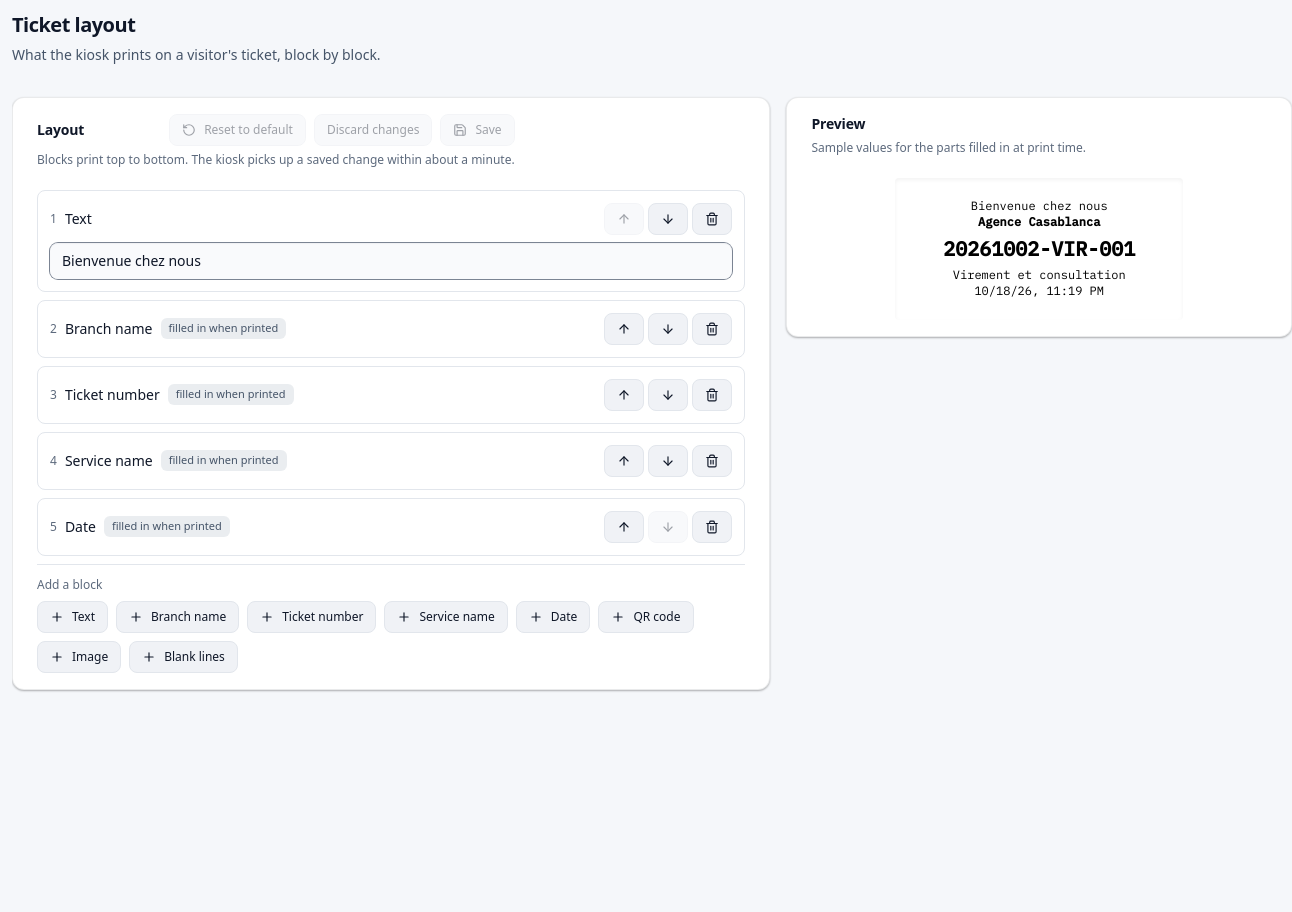
Test: TicketTemplate › refuses to save an empty ticket
Expected: the button named "move block 1, text down" is shown, x1=648 y1=202 x2=688 y2=234
Click the button named "remove block" at (712, 218), box x1=692 y1=202 x2=732 y2=234
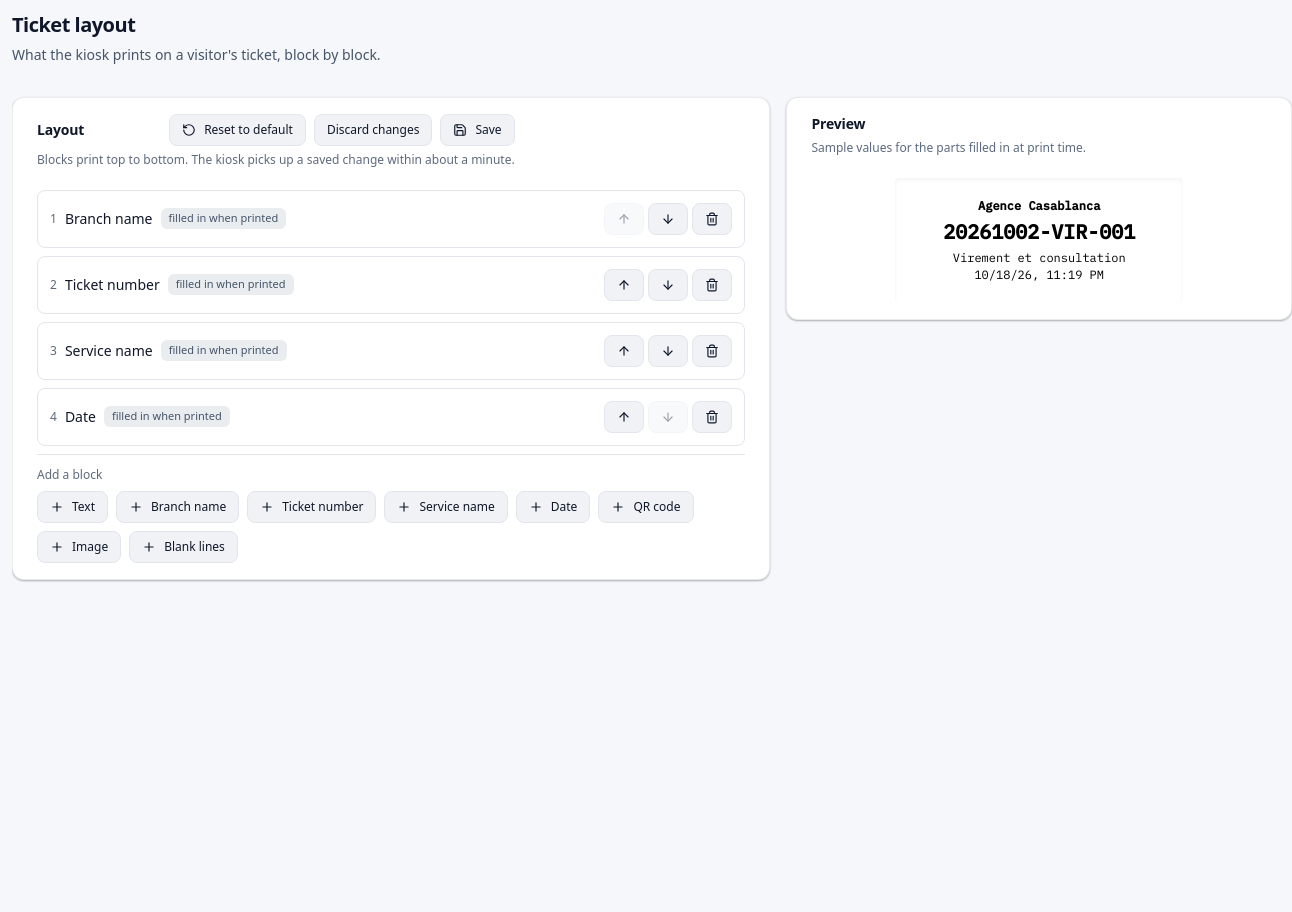
Click the button named "remove block" at (712, 218), box x1=692 y1=202 x2=732 y2=234
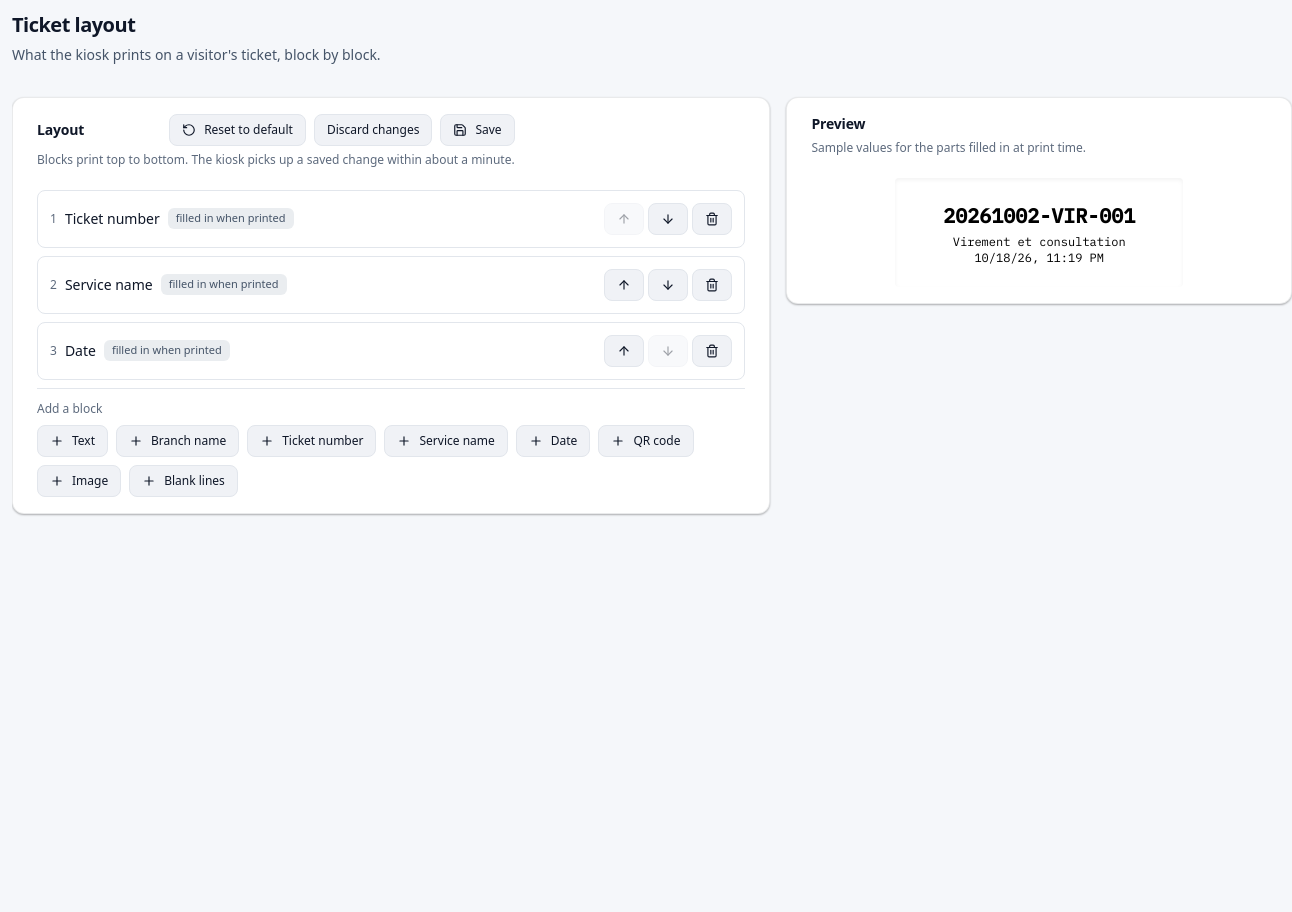
Click the button named "remove block" at (712, 218), box x1=692 y1=202 x2=732 y2=234
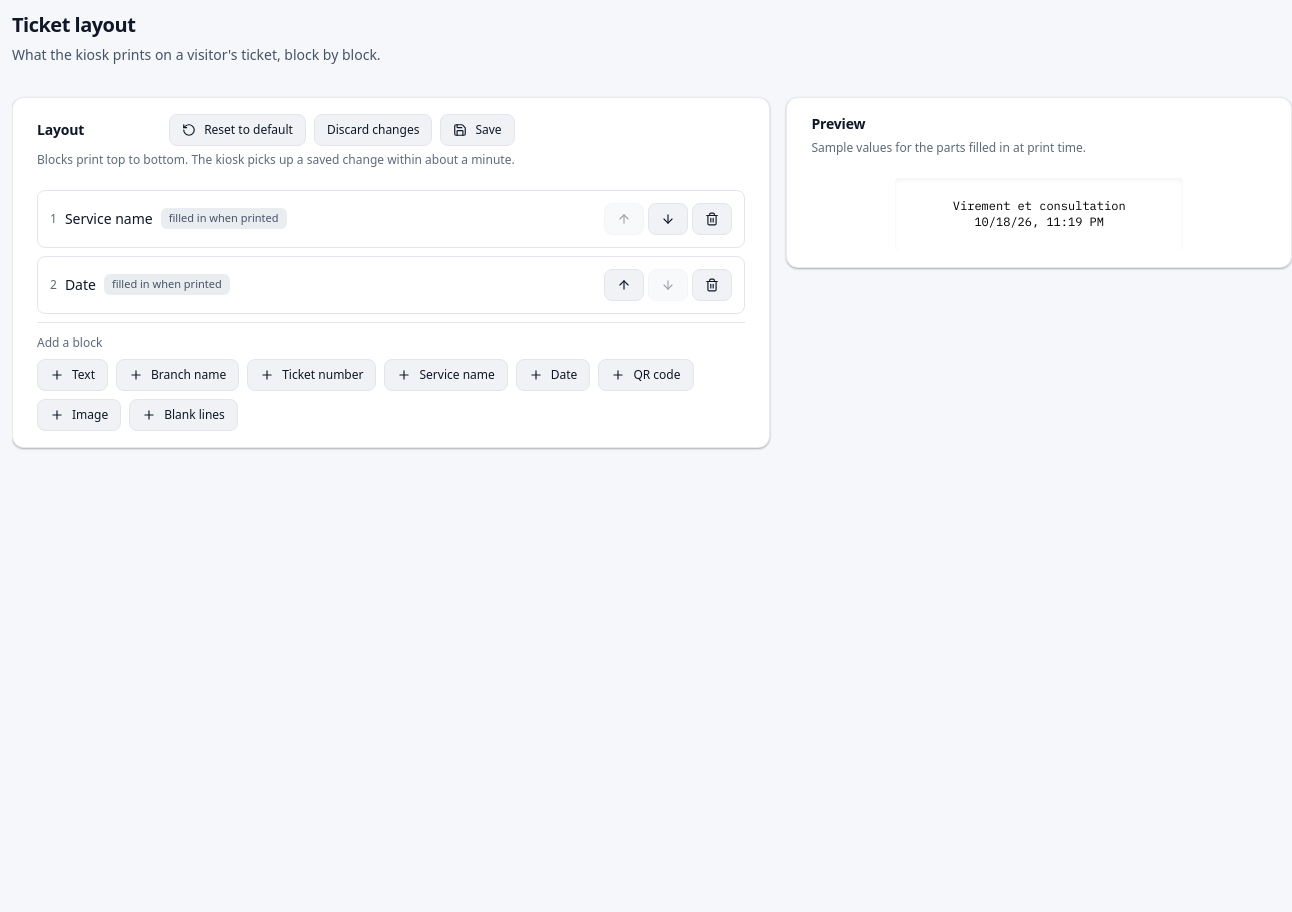
Click the button named "remove block" at (712, 218), box x1=692 y1=202 x2=732 y2=234
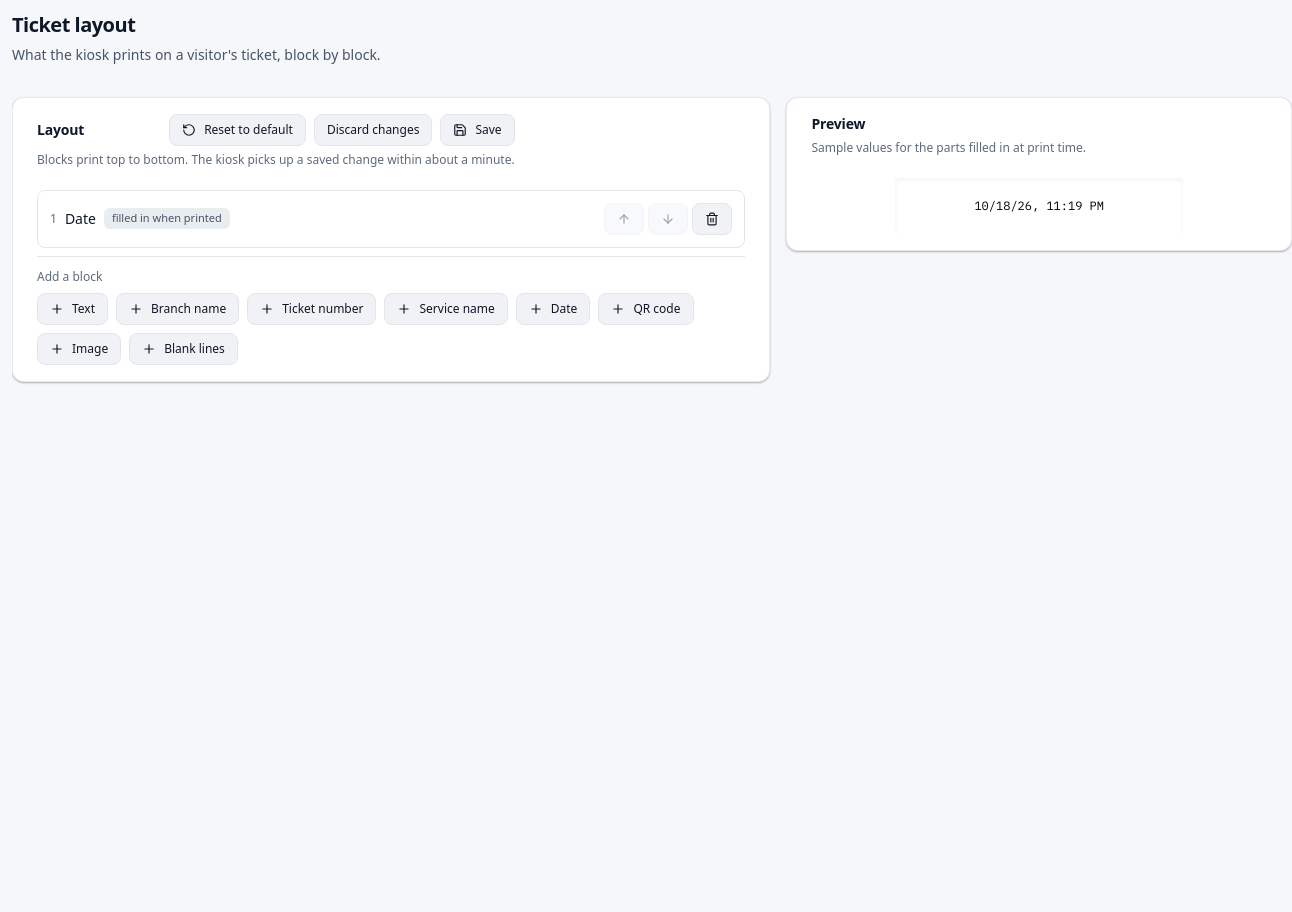
Click the button named "remove block" at (712, 218), box x1=692 y1=202 x2=732 y2=234
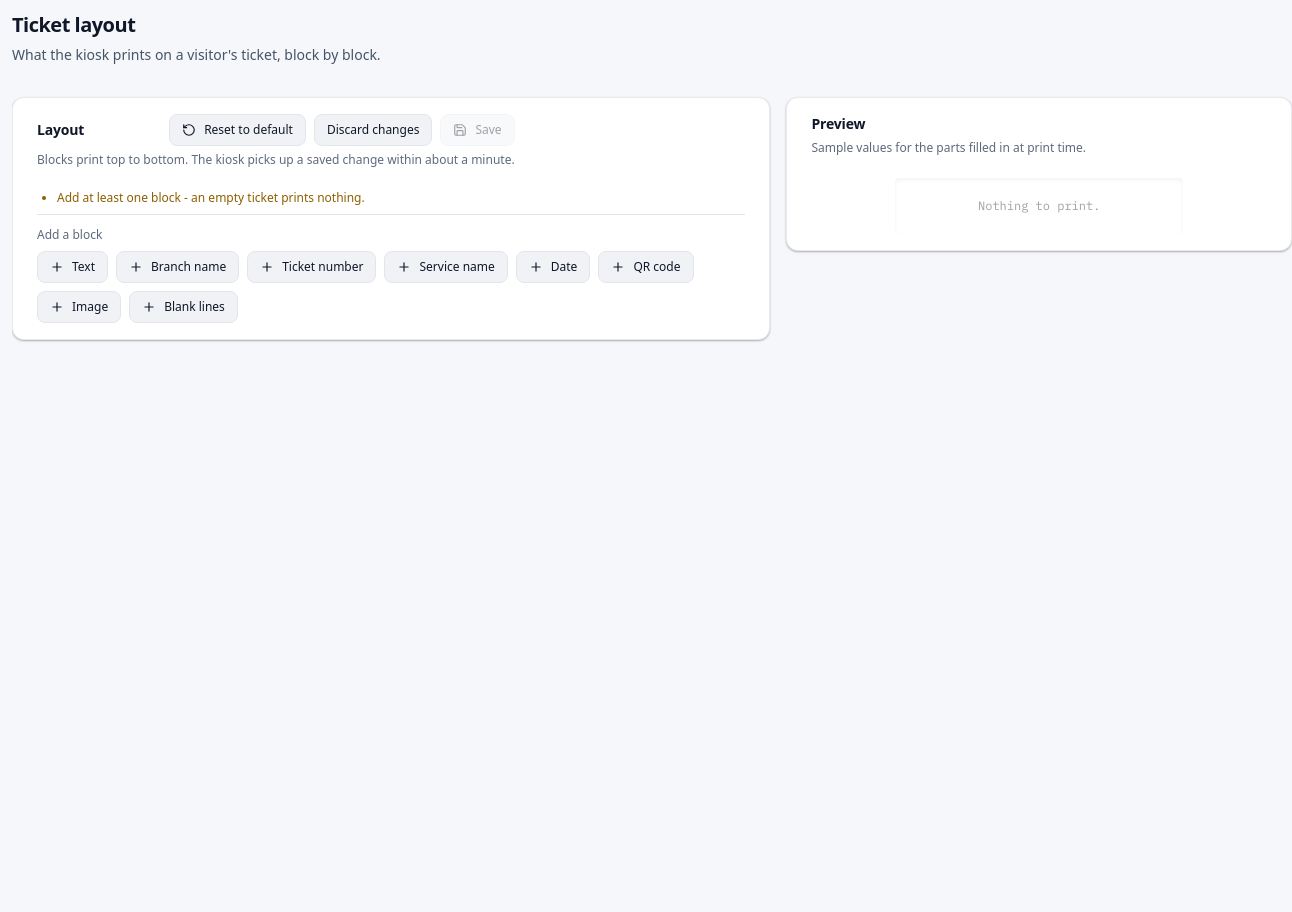
Now the list item "Add at least one block - an empty ticket prints nothing." is shown, box x1=57 y1=188 x2=365 y2=206
Now the button "Save" is disabled, box x1=440 y1=114 x2=515 y2=146
Now the text "Nothing to print." is shown, box x1=978 y1=198 x2=1100 y2=212
